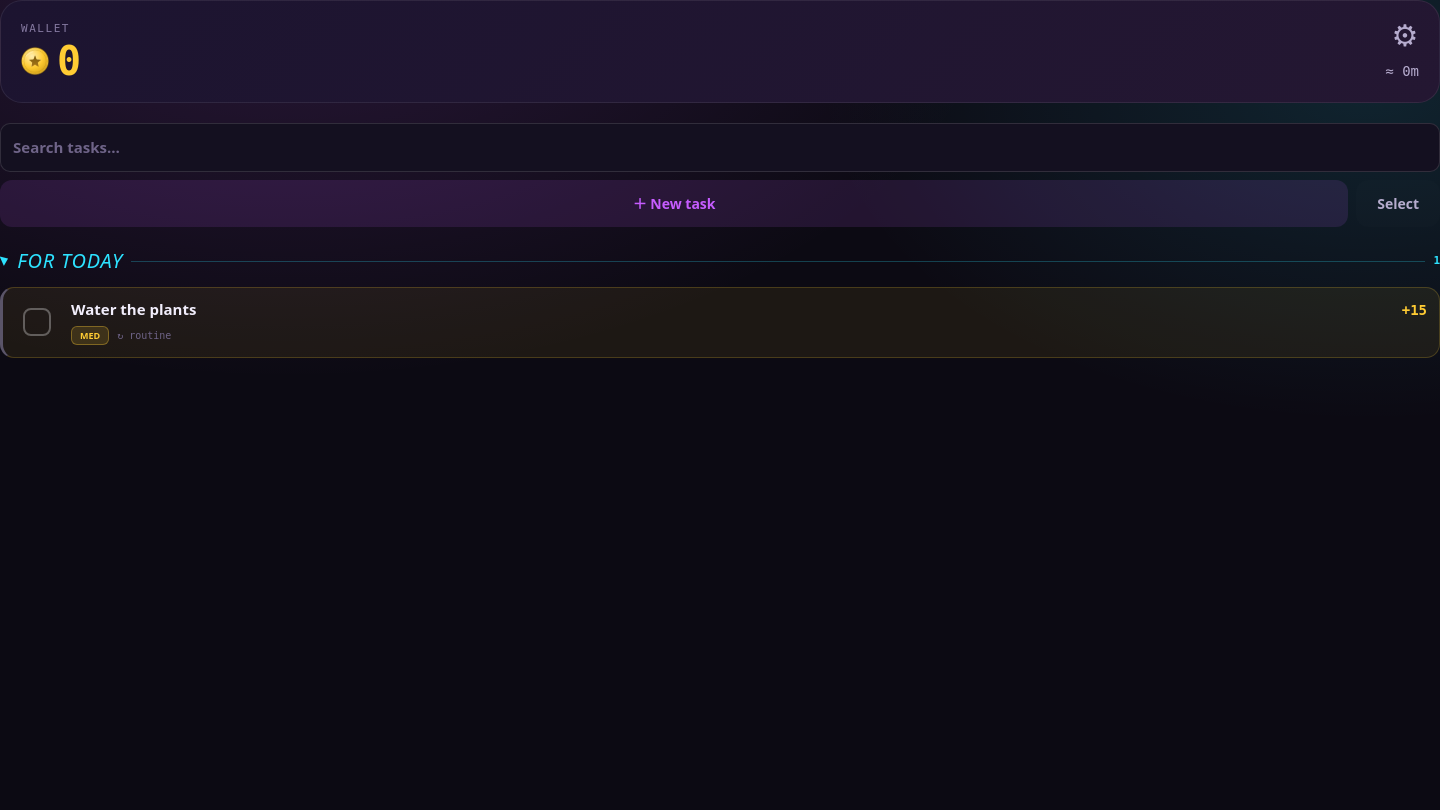
Test: ticking a step from the sheet › unticks one that was already done
The width and height of the screenshot is (1440, 810).
Click the button "Water the plants": click(134, 309) x1=71 y1=300 x2=1390 y2=318
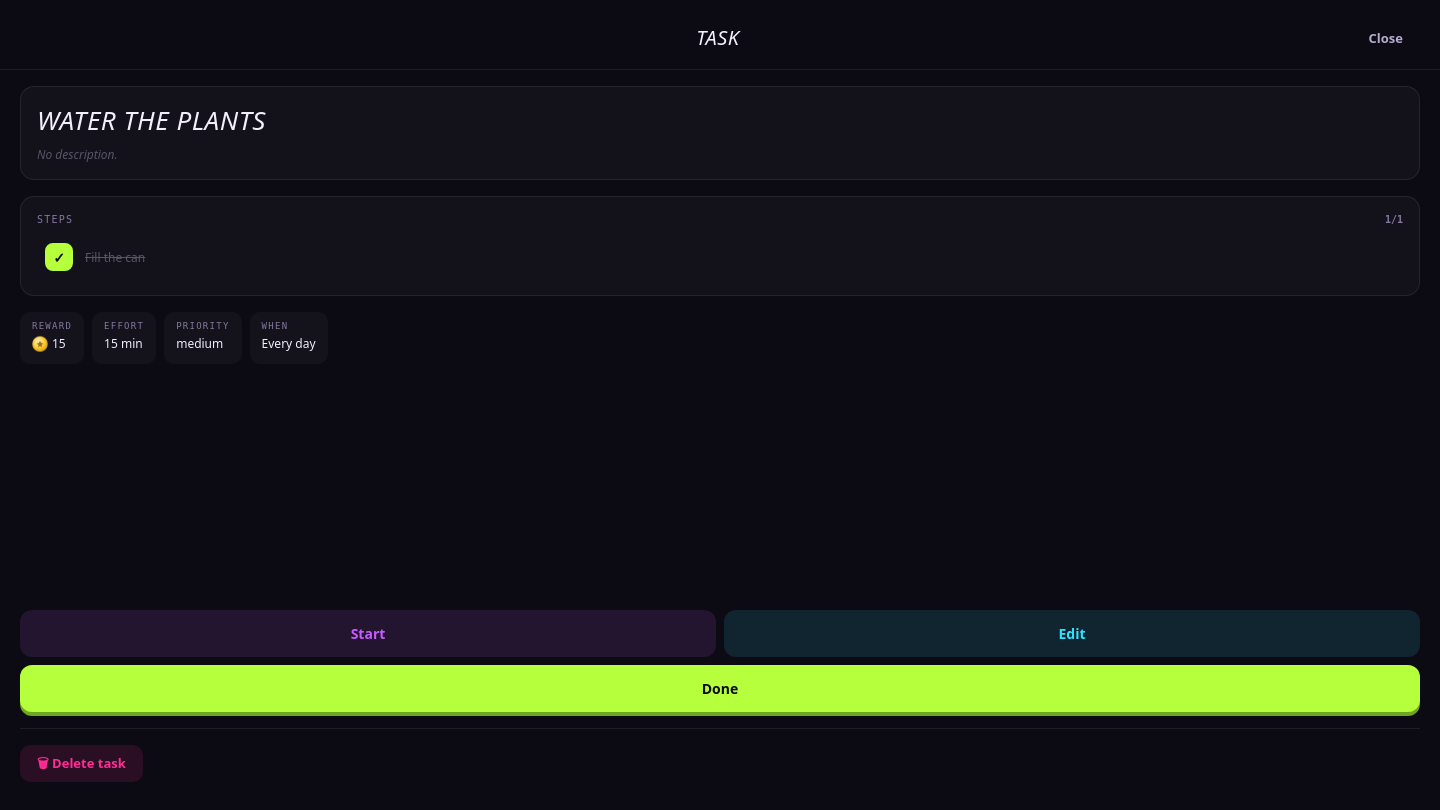
Check: the text "1/1" is shown, box x1=1385 y1=213 x2=1403 y2=227
Click the checkbox "Fill the can": click(115, 257) x1=85 y1=249 x2=145 y2=266
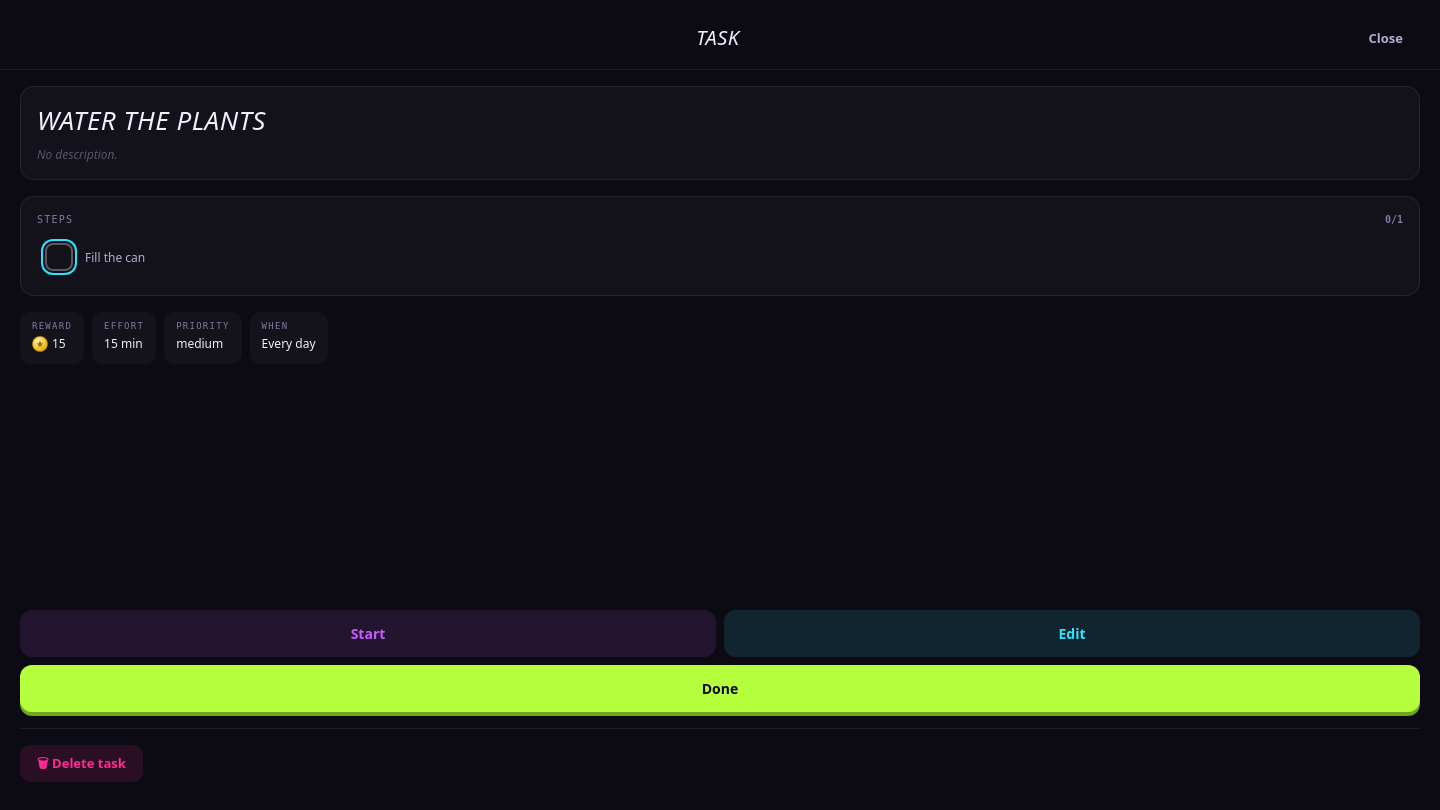
Check: the text "0/1" is shown, box x1=1385 y1=213 x2=1403 y2=227
